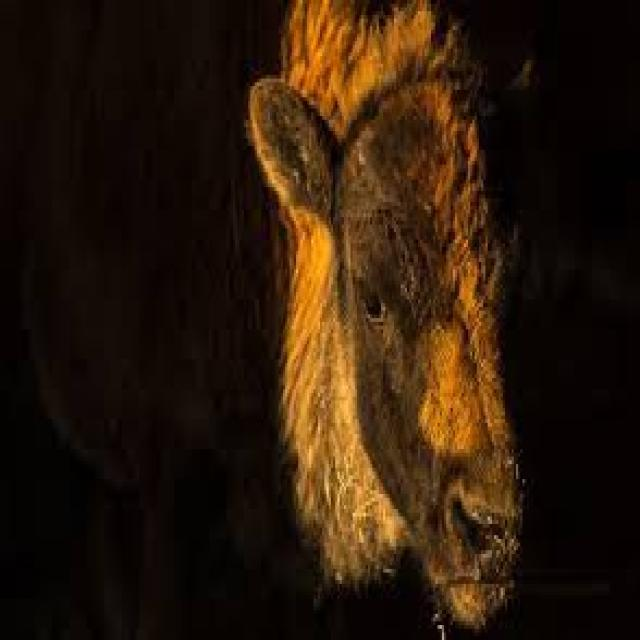Bison: (241, 2, 552, 632)
